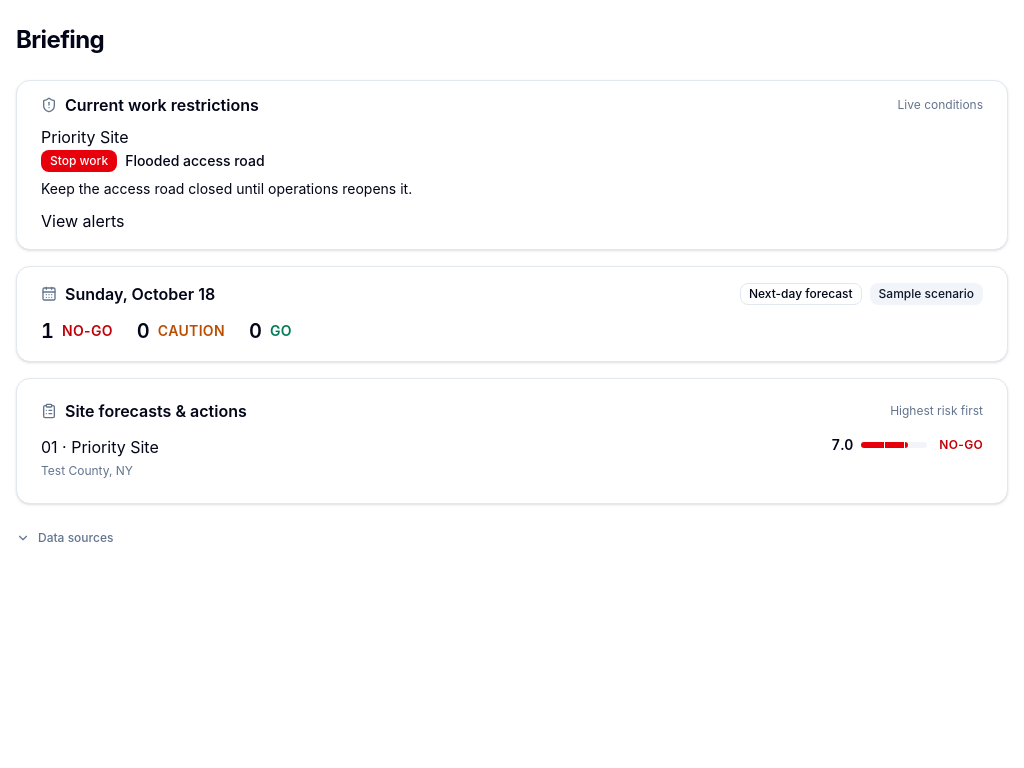
Briefing scope › discloses the sample scenario once and omits repeated technical notices
The image size is (1024, 768).
Expected: the text "Sample scenario" is shown, x1=870 y1=283 x2=983 y2=305
Click the heading "Data sources": point(65, 538) x1=16 y1=530 x2=113 y2=545
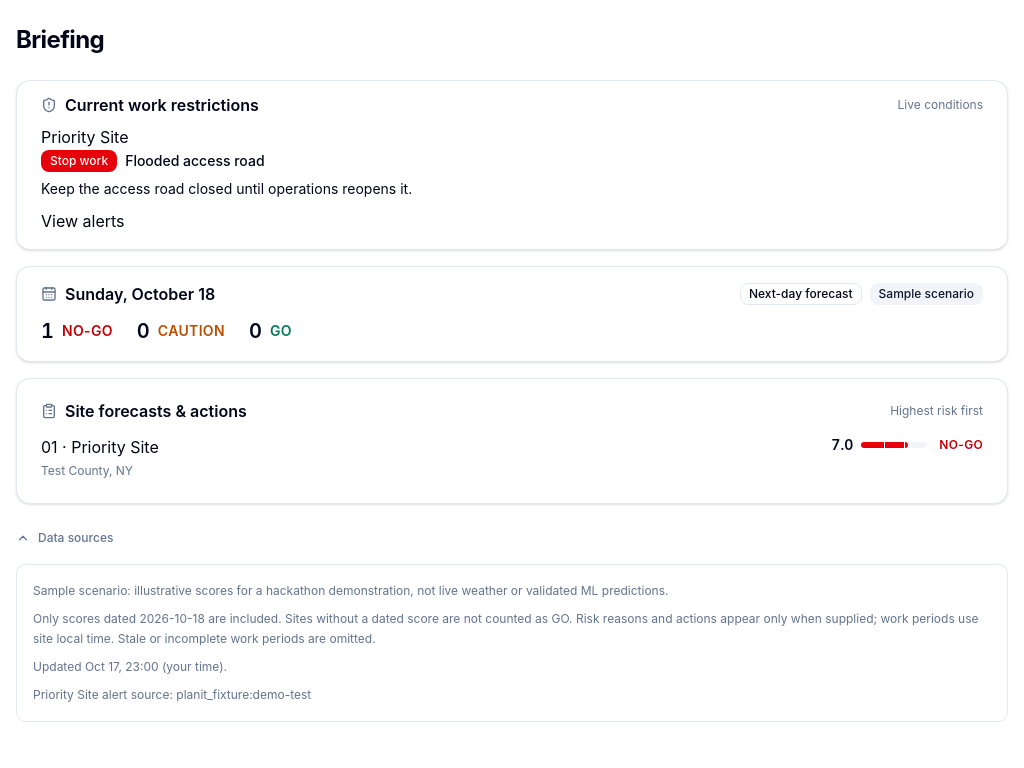
Expected: the text "Sample scenario: illustrative scores" is shown, x1=33 y1=583 x2=668 y2=598
